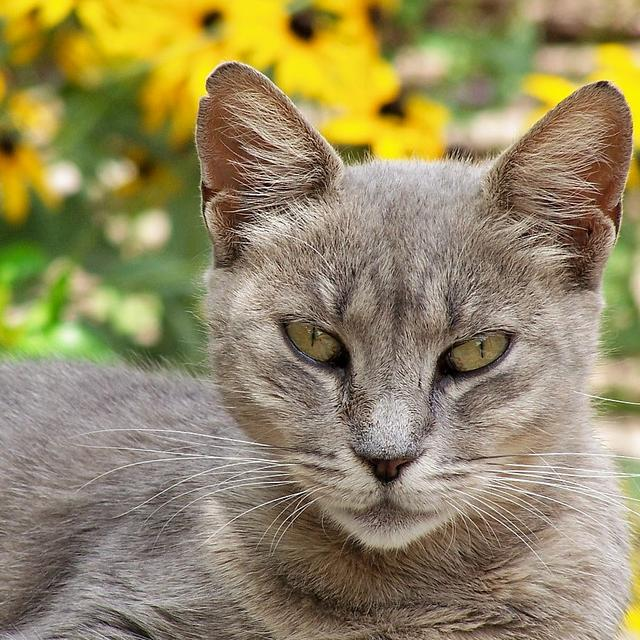animals: (213, 62, 608, 481)
